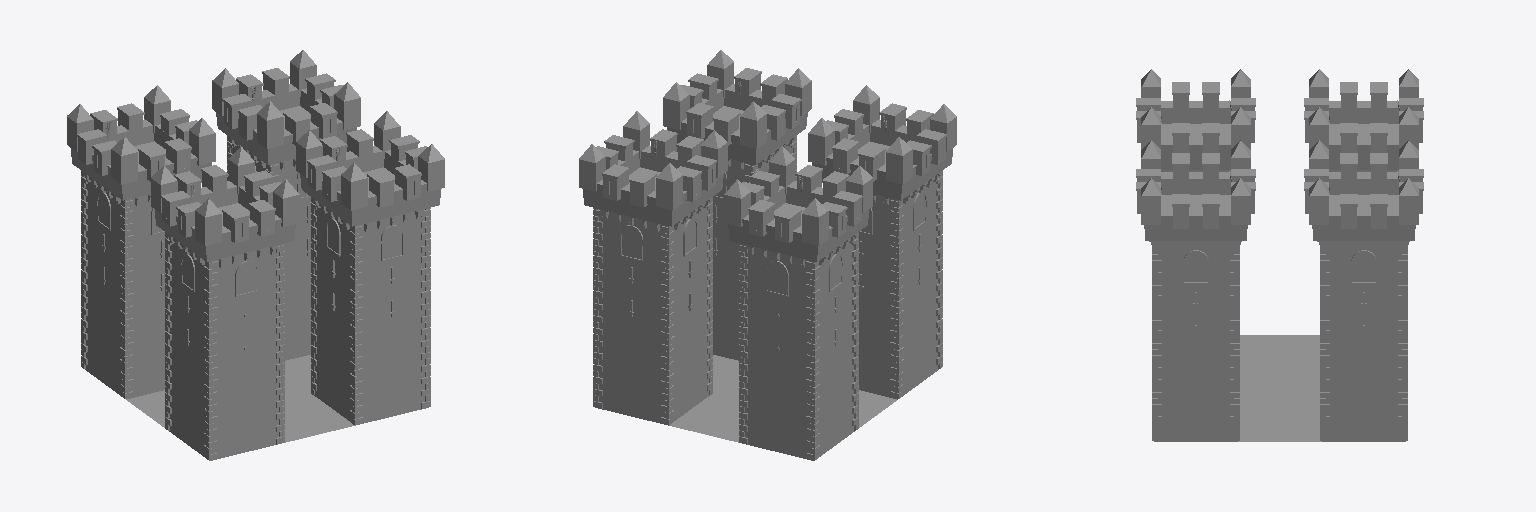
File: CrossSection.obj
3 renders of one model, left to right at view 1: azimuth 30°, elevation 25°; view 2: azimuth 150°, elevation 25°; view 3: azimuth 270°, elevation 25°, orthographic.
Parts seen in each view (by area): view 1: Plane.010, Plane.011, Plane.009, Plane.008, Plane.007; view 2: Plane.009, Plane.008, Plane.010, Plane.011, Plane.007; view 3: Plane.008, Plane.011, Plane.007, Plane.009, Plane.010.
Part boxes in pixels (x1,y1,x2,y2): Plane.010: (151,146,299,460); Plane.011: (296,111,444,425); Plane.009: (67,85,215,399); Plane.008: (212,50,360,360); Plane.007: (127,355,354,442); Plane.009: (724,146,872,460); Plane.008: (579,111,727,425); Plane.010: (808,85,956,399); Plane.011: (663,50,811,360); Plane.007: (669,355,896,442); Plane.008: (1304,140,1423,441); Plane.011: (1136,140,1255,441); Plane.007: (1238,335,1321,441); Plane.009: (1304,69,1423,171); Plane.010: (1136,69,1255,171).
Bounding box in the file's own units: 13.74 × 13.91 × 13.74.